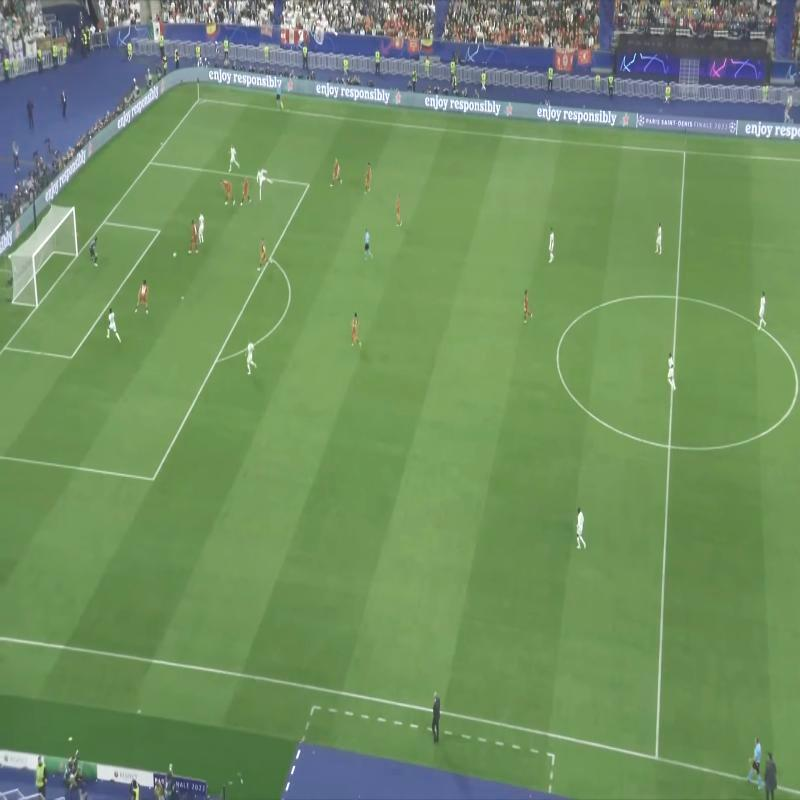1: (191, 92, 206, 107)
11: (208, 354, 224, 370)
12: (144, 471, 162, 487)
13: (680, 143, 690, 162)
14: (670, 289, 686, 306)
15: (660, 438, 678, 456)
16: (648, 744, 666, 770)
2: (144, 154, 158, 172)
3: (100, 214, 110, 231)
7: (153, 220, 166, 243)
8: (63, 350, 79, 366)
9: (302, 176, 316, 192)
c: (551, 344, 568, 362), (794, 372, 800, 399)
